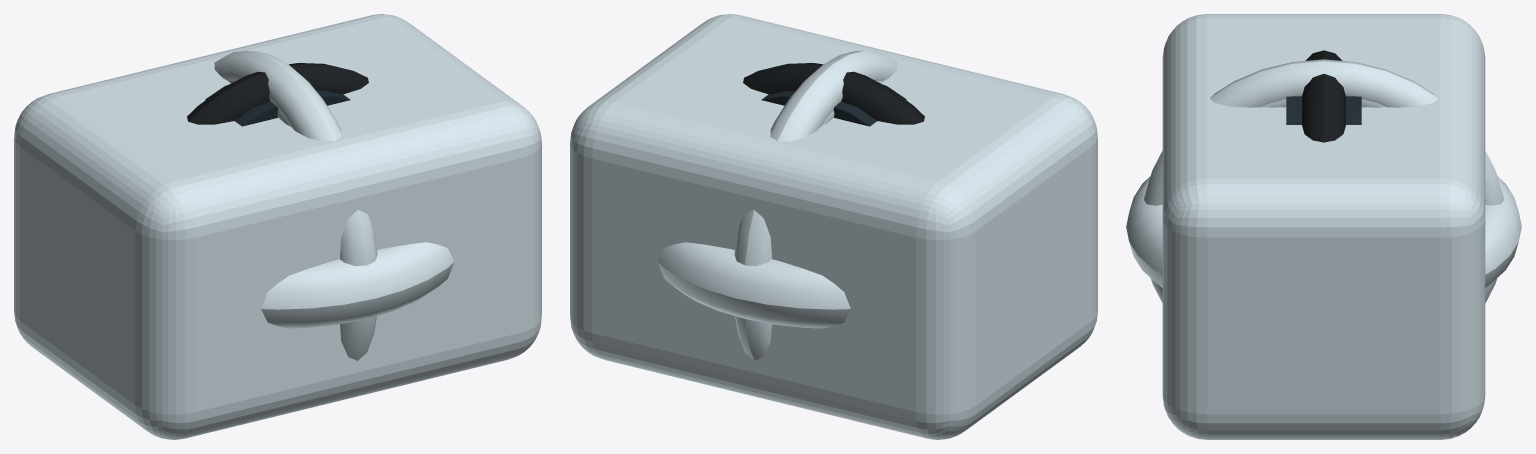
Rendered from transmission_hydraulics_06.glb.
The picture shows the model from 3 angles, left to right: view 1: azimuth 30°, elevation 25°; view 2: azimuth 150°, elevation 25°; view 3: azimuth 270°, elevation 25°; orthographic projection.
Visible parts, largest first — view 1: asset_mesh__transmission_hydraulics_0268__reference_body, asset_mesh__transmission_hydraulics_0269__gear_teeth_referen, asset_mesh__transmission_hydraulics_0278__functional_ring, asset_mesh__transmission_hydraulics_0286__service_element, asset_mesh__transmission_hydraulics_0269__gear_core; view 2: asset_mesh__transmission_hydraulics_0268__reference_body, asset_mesh__transmission_hydraulics_0269__gear_teeth_referen, asset_mesh__transmission_hydraulics_0278__functional_ring, asset_mesh__transmission_hydraulics_0286__service_element, asset_mesh__transmission_hydraulics_0269__gear_core; view 3: asset_mesh__transmission_hydraulics_0268__reference_body, asset_mesh__transmission_hydraulics_0278__functional_ring, asset_mesh__transmission_hydraulics_0269__gear_teeth_referen, asset_mesh__transmission_hydraulics_0286__service_element, asset_mesh__transmission_hydraulics_0269__gear_core.
Boxes of the visible parts, <box> form: asset_mesh__transmission_hydraulics_0268__reference_body: <box>14,14,541,439</box>; asset_mesh__transmission_hydraulics_0269__gear_teeth_referen: <box>261,242,454,328</box>; asset_mesh__transmission_hydraulics_0278__functional_ring: <box>214,50,377,360</box>; asset_mesh__transmission_hydraulics_0286__service_element: <box>187,63,368,124</box>; asset_mesh__transmission_hydraulics_0269__gear_core: <box>205,84,350,126</box>; asset_mesh__transmission_hydraulics_0268__reference_body: <box>570,14,1097,439</box>; asset_mesh__transmission_hydraulics_0269__gear_teeth_referen: <box>657,242,850,328</box>; asset_mesh__transmission_hydraulics_0278__functional_ring: <box>734,50,897,360</box>; asset_mesh__transmission_hydraulics_0286__service_element: <box>743,63,924,124</box>; asset_mesh__transmission_hydraulics_0269__gear_core: <box>761,84,906,126</box>; asset_mesh__transmission_hydraulics_0268__reference_body: <box>1162,14,1485,439</box>; asset_mesh__transmission_hydraulics_0278__functional_ring: <box>1144,59,1503,302</box>; asset_mesh__transmission_hydraulics_0269__gear_teeth_referen: <box>1126,176,1521,287</box>; asset_mesh__transmission_hydraulics_0286__service_element: <box>1302,50,1345,142</box>; asset_mesh__transmission_hydraulics_0269__gear_core: <box>1286,96,1361,124</box>.
Size of the model in its own units: 1.15 by 0.8996 by 0.9744.
